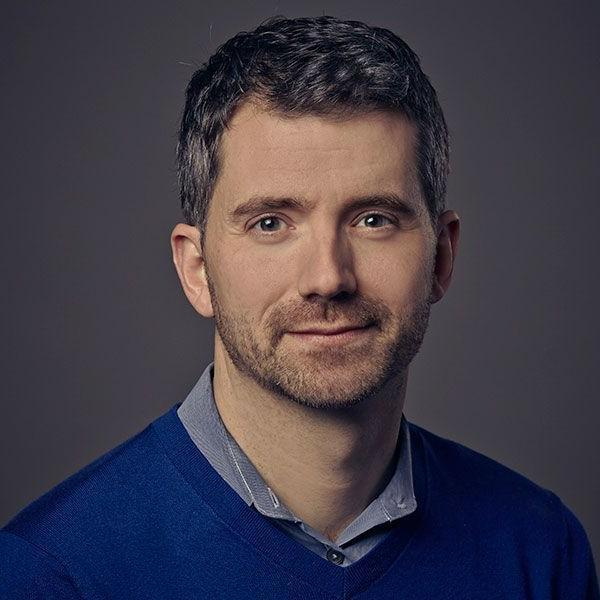Sober: (207, 104, 430, 393)
